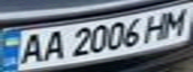0: (106, 18, 130, 52), (90, 21, 112, 55)
2: (66, 25, 93, 58)
6: (121, 16, 148, 47)
A: (15, 30, 48, 65), (39, 28, 69, 62)
H: (139, 11, 175, 43)
M: (157, 6, 193, 38)
